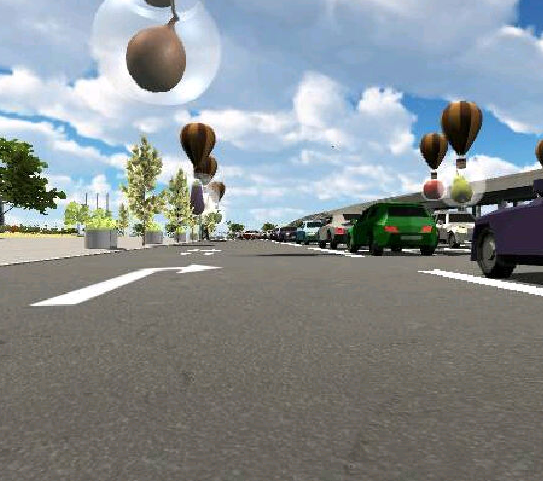ground_right: (123, 262, 224, 274)
